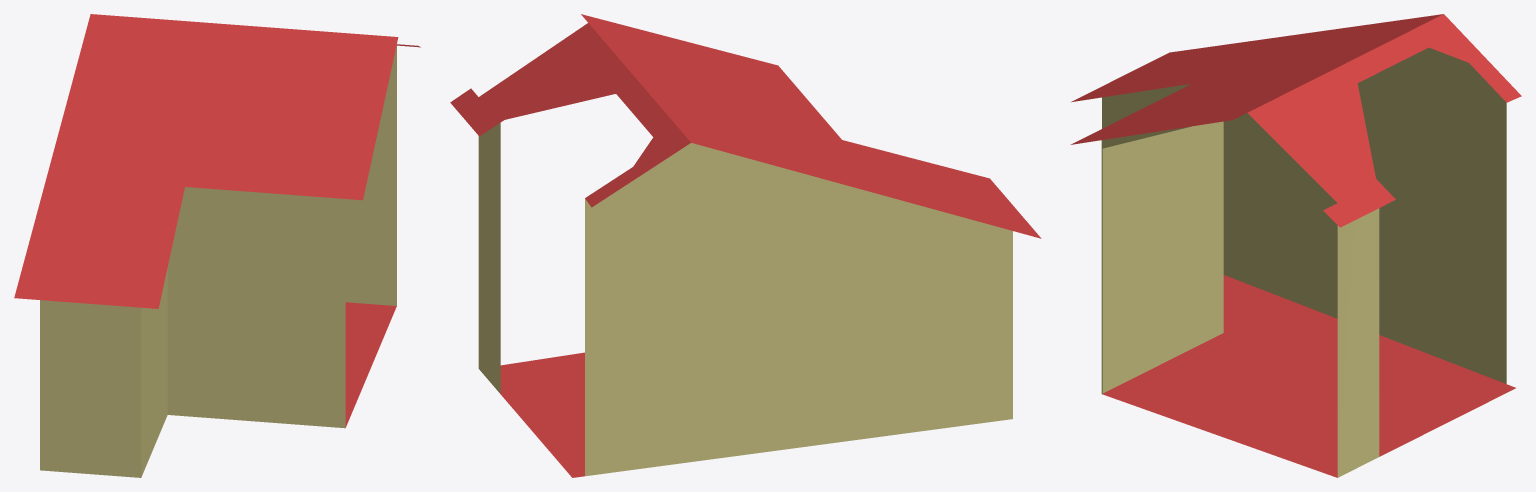
3 views of the same model, side by side, from view 1: azimuth 30°, elevation 25°; view 2: azimuth 150°, elevation 25°; view 3: azimuth 270°, elevation 25° (orthographic). The views are drawn at different scales.
Size of the model in its own units: 19.71 by 15.03 by 12.22.
